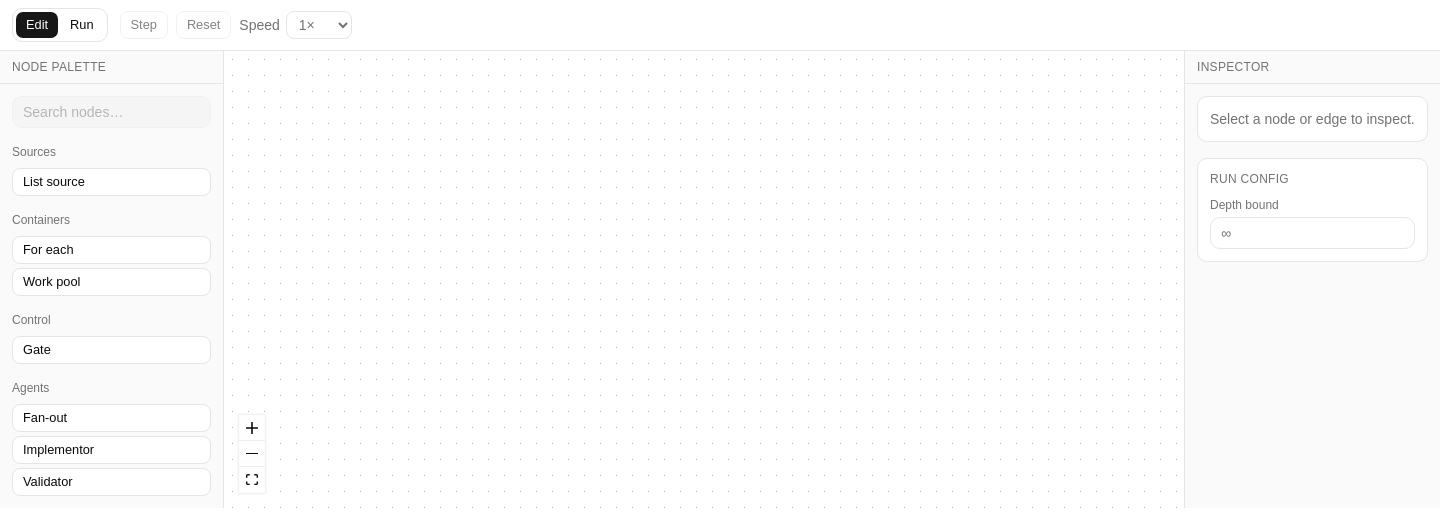
Scenario: run overlay rendering › reaches a clear terminal fixpoint state with a dimmed body
Click the button with test id "mode-run" at (82, 25), box [59,11,105,39]
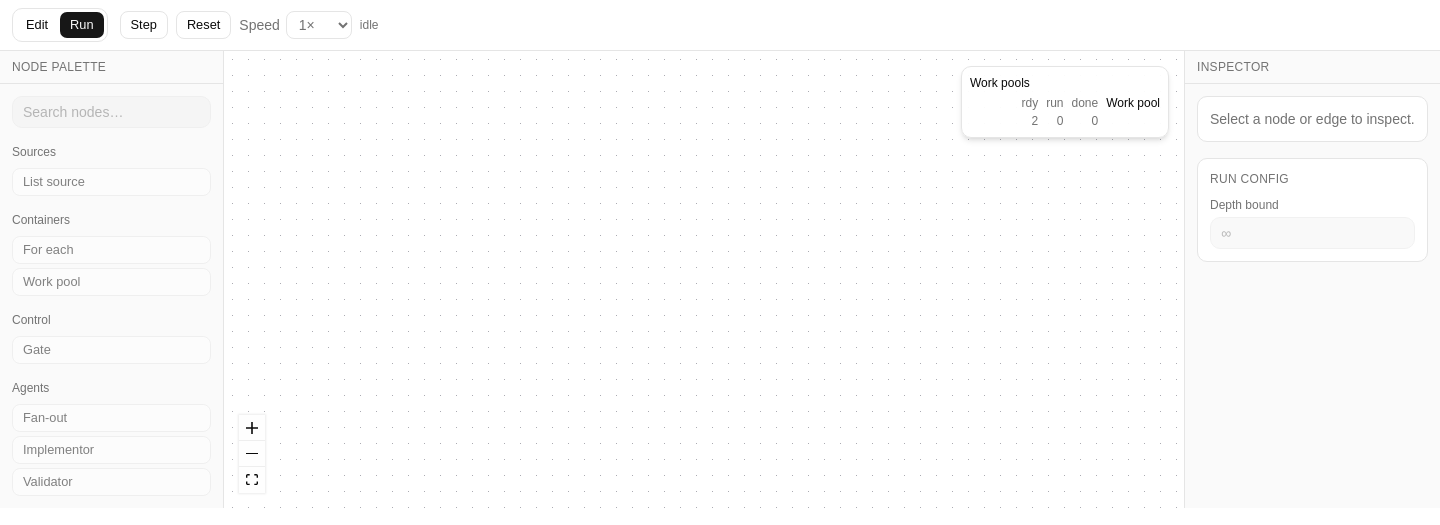
Click the button with test id "run-step" at (144, 25), box [120,11,168,39]
Wait 6000 ms
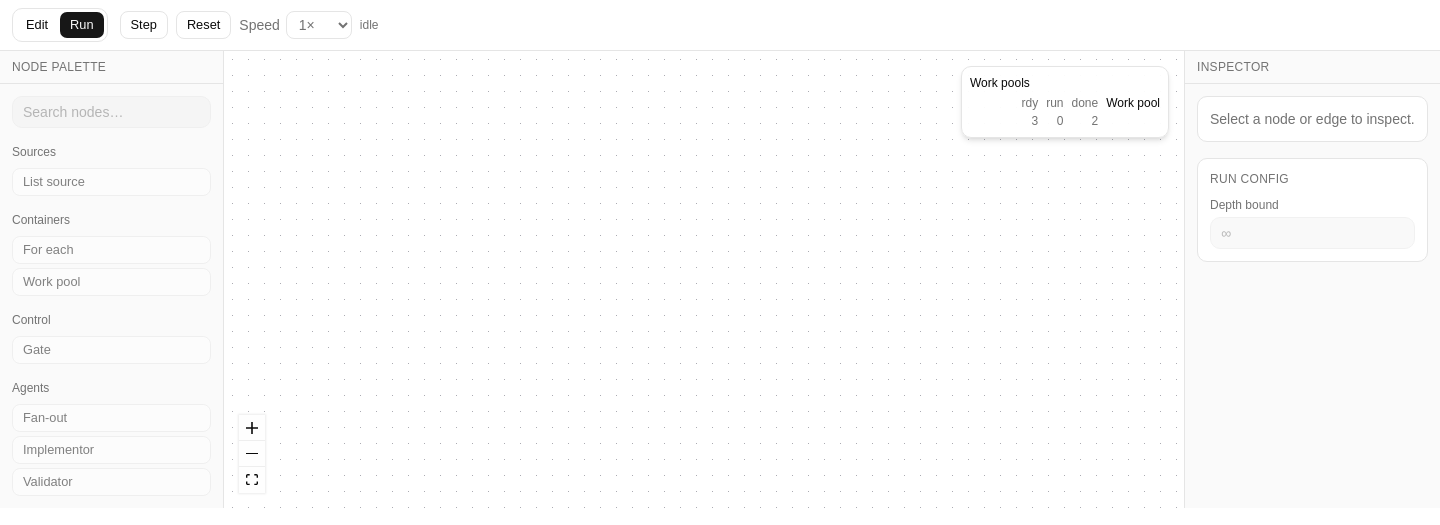
Check: the element with test id "run-controls" does not have attribute data-run-status="running", box [0,0,1439,51]
Click the button with test id "run-step" at (144, 25), box [120,11,168,39]
Wait 6000 ms
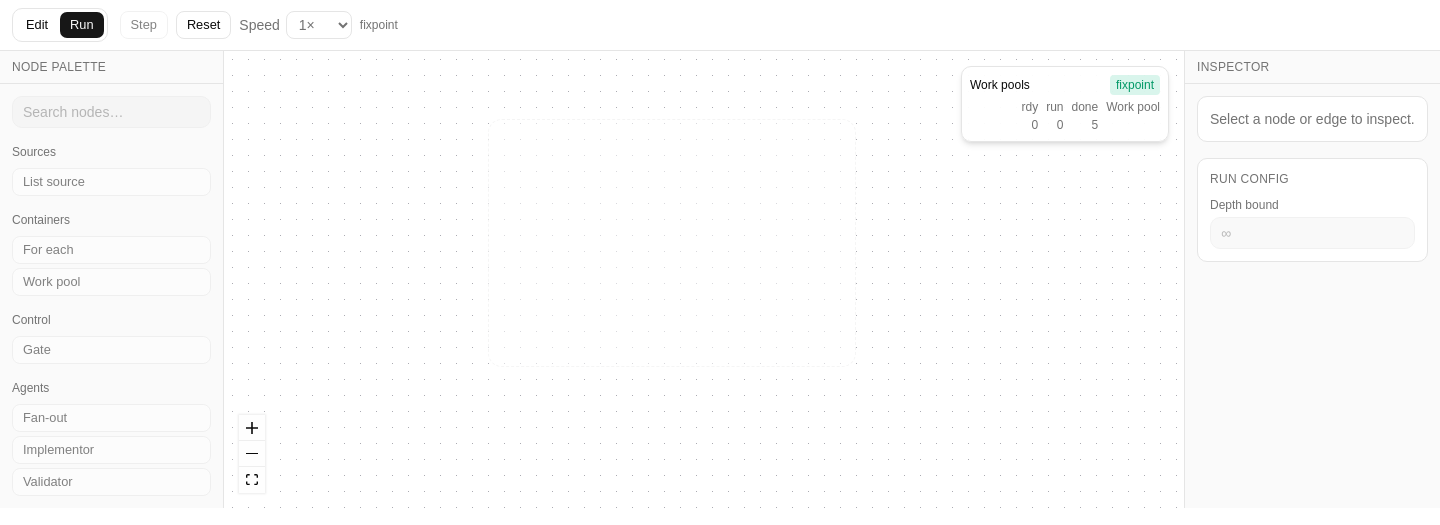
Check: the text with test id "run-fixpoint" is shown, box [1110,75,1160,95]
Check: the element with test id "run-done-pool" is shown, box [488,119,856,367]
